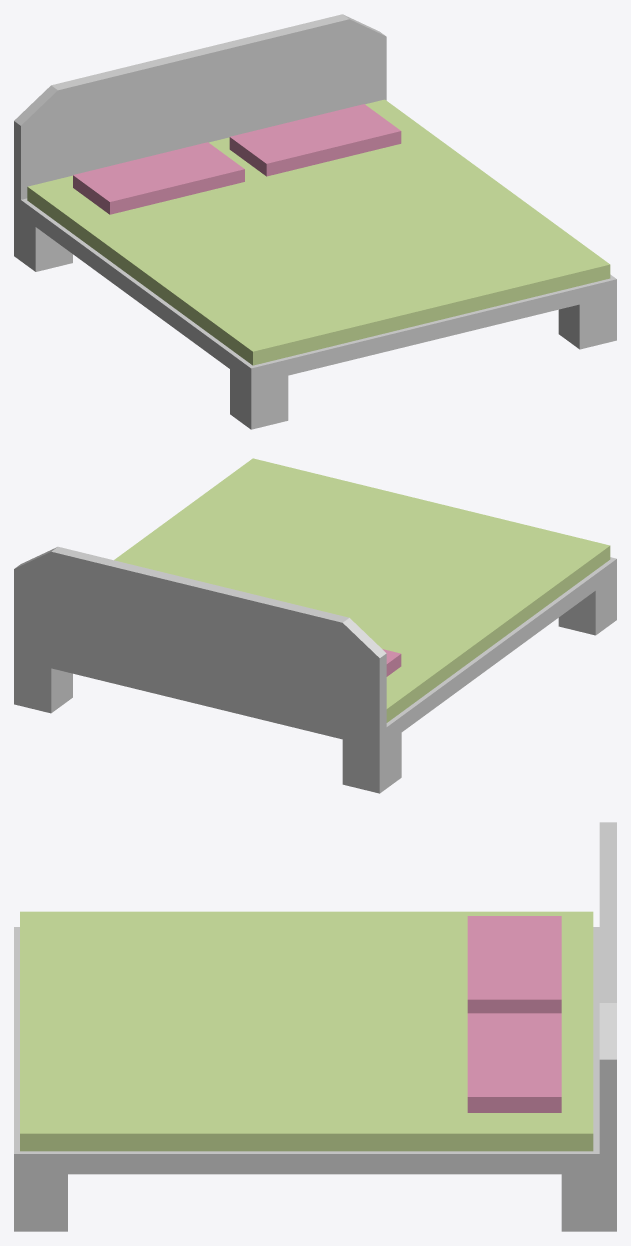
Rendered from doublebed.fbx.
The picture shows the model from 3 angles, top to bottom: view 1: azimuth 30°, elevation 25°; view 2: azimuth 150°, elevation 25°; view 3: azimuth 270°, elevation 25°; orthographic projection. The views are drawn at different scales.
Visible parts, largest first — view 1: Cube.002; view 2: Cube.002; view 3: Cube.002.
Boxes of the visible parts, <box> form: Cube.002: <box>14,14,616,429</box>; Cube.002: <box>14,458,616,793</box>; Cube.002: <box>14,822,616,1231</box>.
Size of the model in its own units: 712 by 301 by 800.
